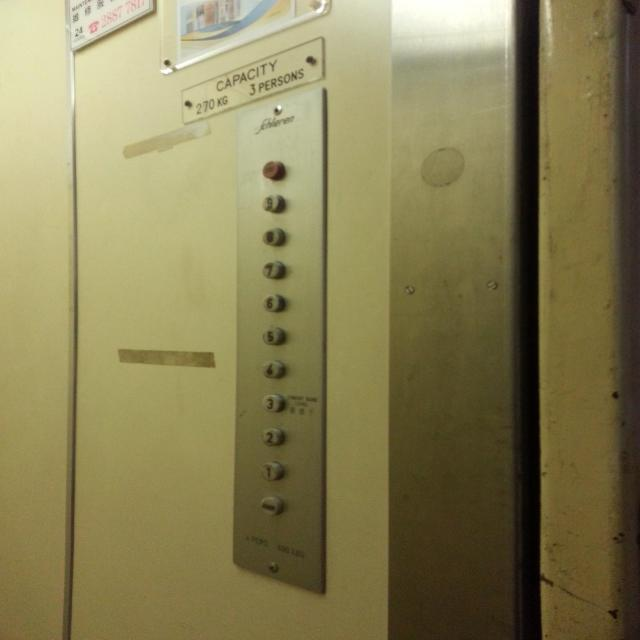1: (258, 460, 284, 482)
2: (259, 426, 285, 448)
3: (259, 392, 285, 415)
4: (260, 358, 286, 380)
5: (260, 325, 286, 348)
6: (258, 292, 284, 315)
7: (259, 259, 285, 282)
8: (260, 226, 286, 248)
9: (258, 192, 284, 214)
text: (258, 494, 284, 517)
text_blur: (260, 158, 286, 181)
